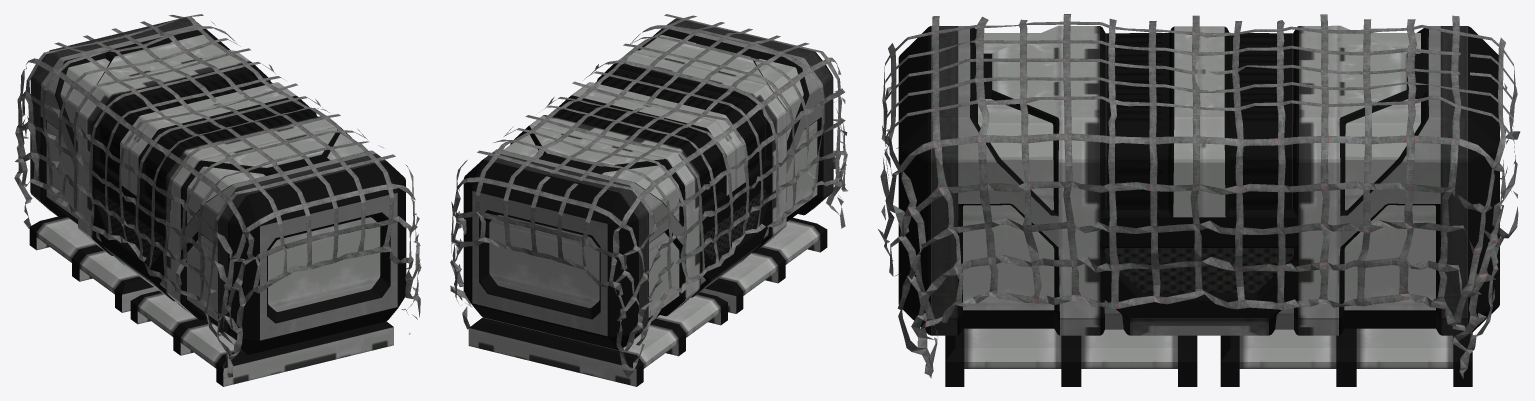
File: crate-size-2-4.glb
The picture shows the model from 3 angles, left to right: view 1: azimuth 30°, elevation 25°; view 2: azimuth 150°, elevation 25°; view 3: azimuth 270°, elevation 25°; orthographic projection. The views are drawn at different scales.
Parts seen in each view (by area): view 1: default; view 2: default; view 3: default.
Boxes of the visible parts, x1=… form: default: x1=14, y1=14, x2=421, y2=386; default: x1=450, y1=14, x2=848, y2=386; default: x1=878, y1=14, x2=1520, y2=386.
Size of the model in its own units: 1.39 by 1.27 by 2.72.
2 materials, 2 textured.
